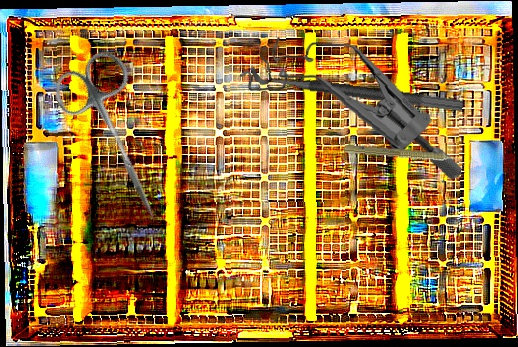Fixation Ring: (247, 52, 467, 113)
Handpiece: (343, 142, 467, 168)
Iris Scissors: (45, 44, 193, 237)
Speculum: (233, 32, 470, 181)
